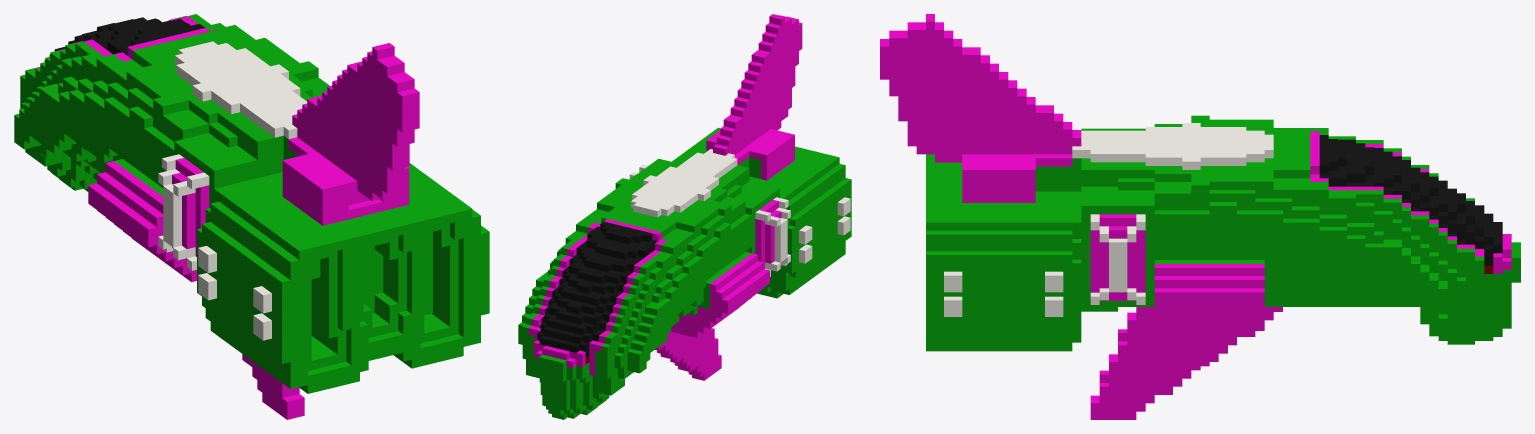
The model's file is ship2ALIEN.FBX.
3 renders of one model, left to right at view 1: azimuth 30°, elevation 25°; view 2: azimuth 150°, elevation 25°; view 3: azimuth 270°, elevation 25°, orthographic. The views are drawn at different scales.
Visible parts, largest first — view 1: default; view 2: default; view 3: default.
Boxes of the visible parts, x1,y1,x2,y2 form: default: (14,14,489,419); default: (518,14,851,419); default: (880,14,1520,419).
Size of the model in its own units: 26 by 70 by 48.
Materials: 1 (1 with a texture image).
